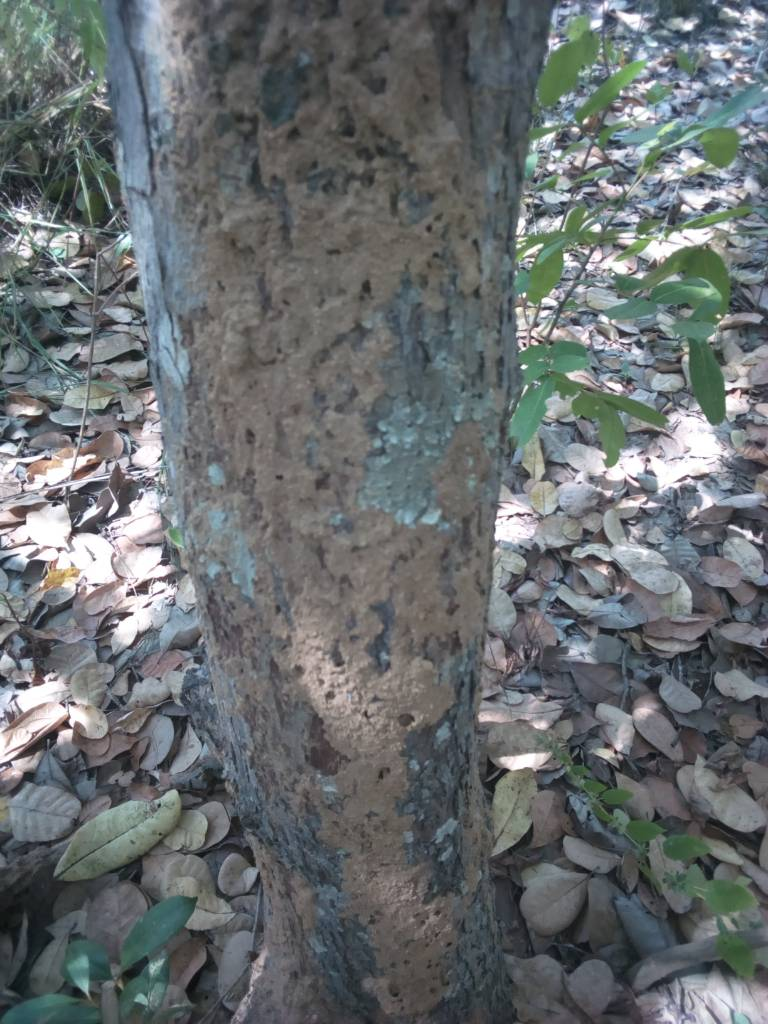Virose: (115, 7, 567, 604), (127, 618, 564, 1020)
